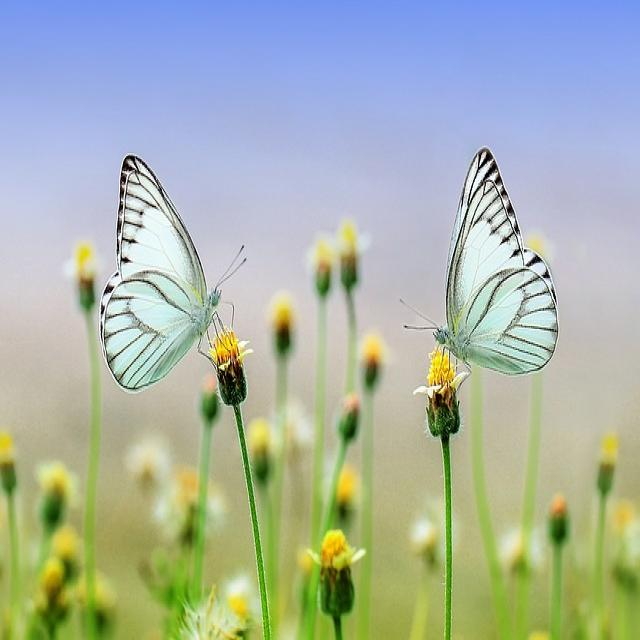butterfly: (100, 154, 220, 392), (435, 148, 558, 375)
